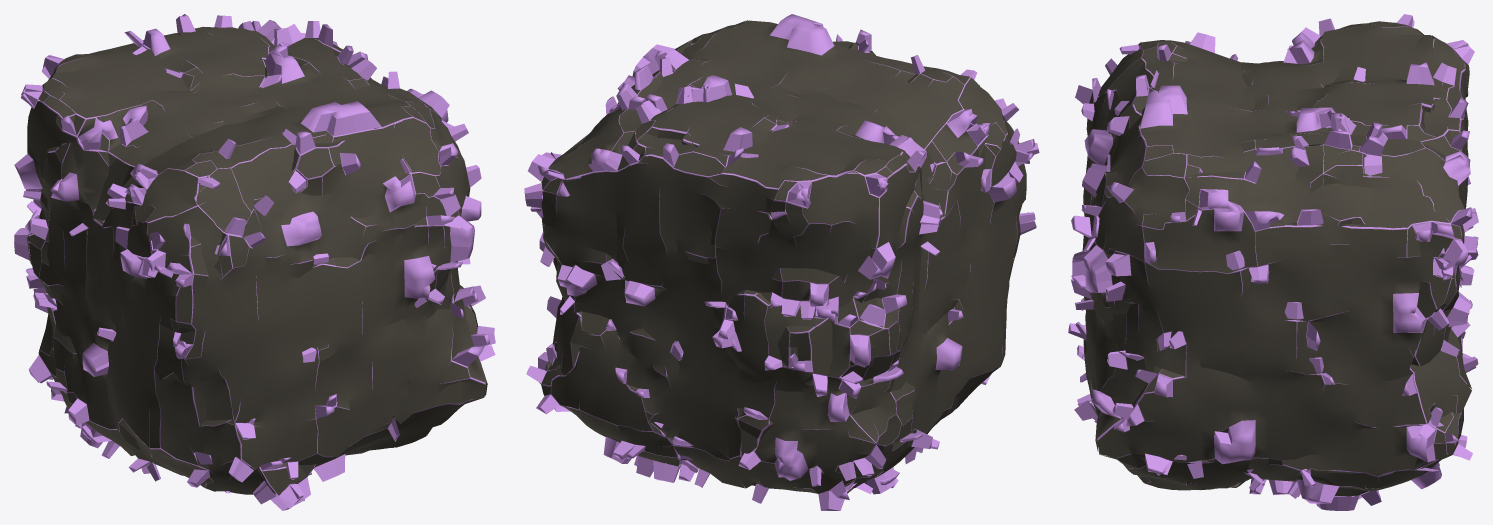
Rendered from glowing_cube.glb.
3 views of the same model, side by side, from view 1: azimuth 30°, elevation 25°; view 2: azimuth 150°, elevation 25°; view 3: azimuth 270°, elevation 25° (orthographic). The views are drawn at different scales.
Visible parts, largest first — view 1: Cube_0; view 2: Cube_0; view 3: Cube_0.
Boxes of the visible parts, x1,y1,x2,y2 form: Cube_0: (14, 14, 495, 510); Cube_0: (524, 14, 1039, 510); Cube_0: (1068, 14, 1478, 510).
Size of the model in its own units: 2.16 by 2.19 by 2.11.
